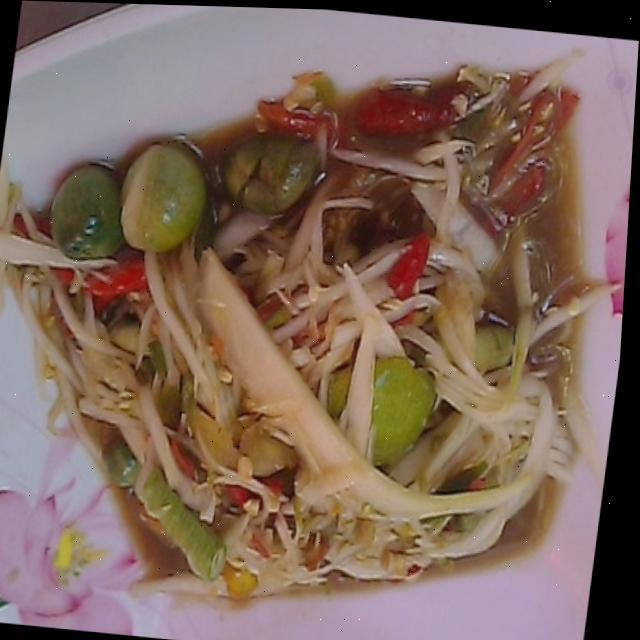蔬菜料理: (0, 8, 636, 640)
